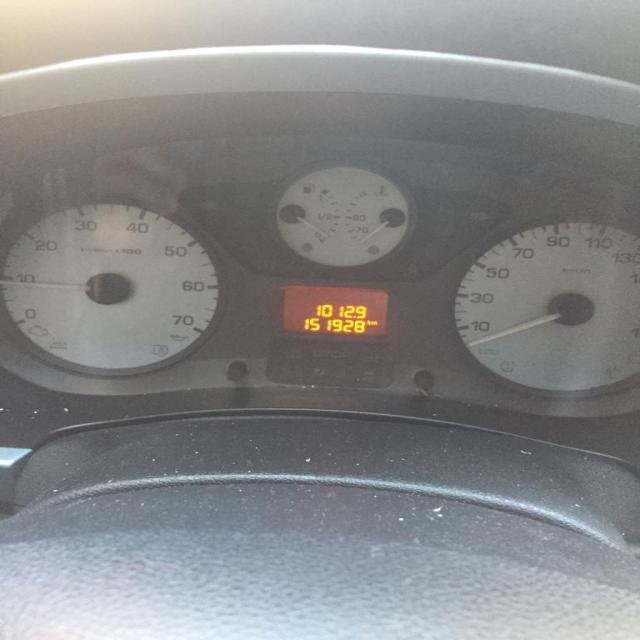odometer: (279, 285, 390, 335)
